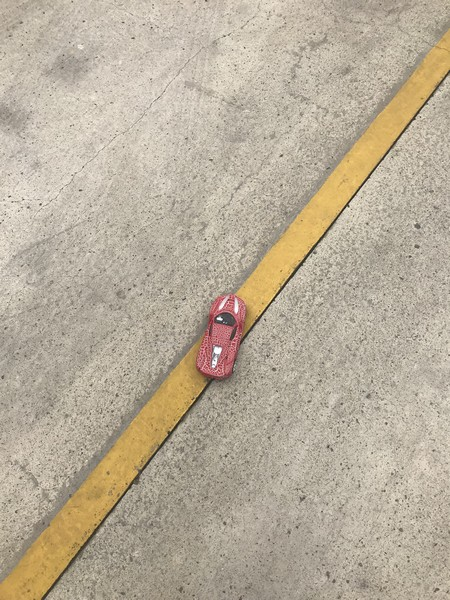RC: (194, 293, 250, 381)
